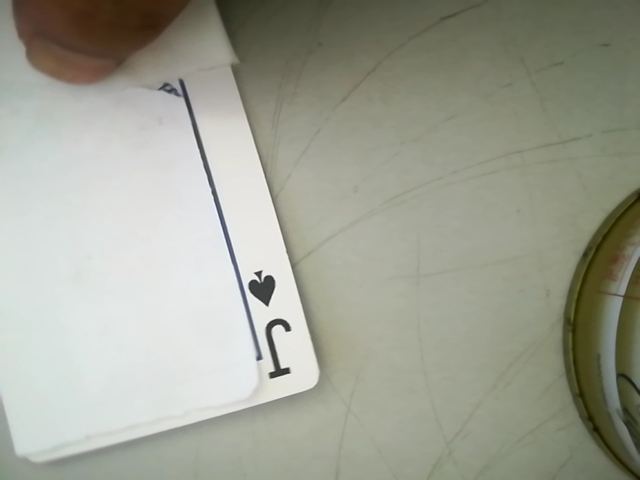ht j: (234, 254, 301, 389)
